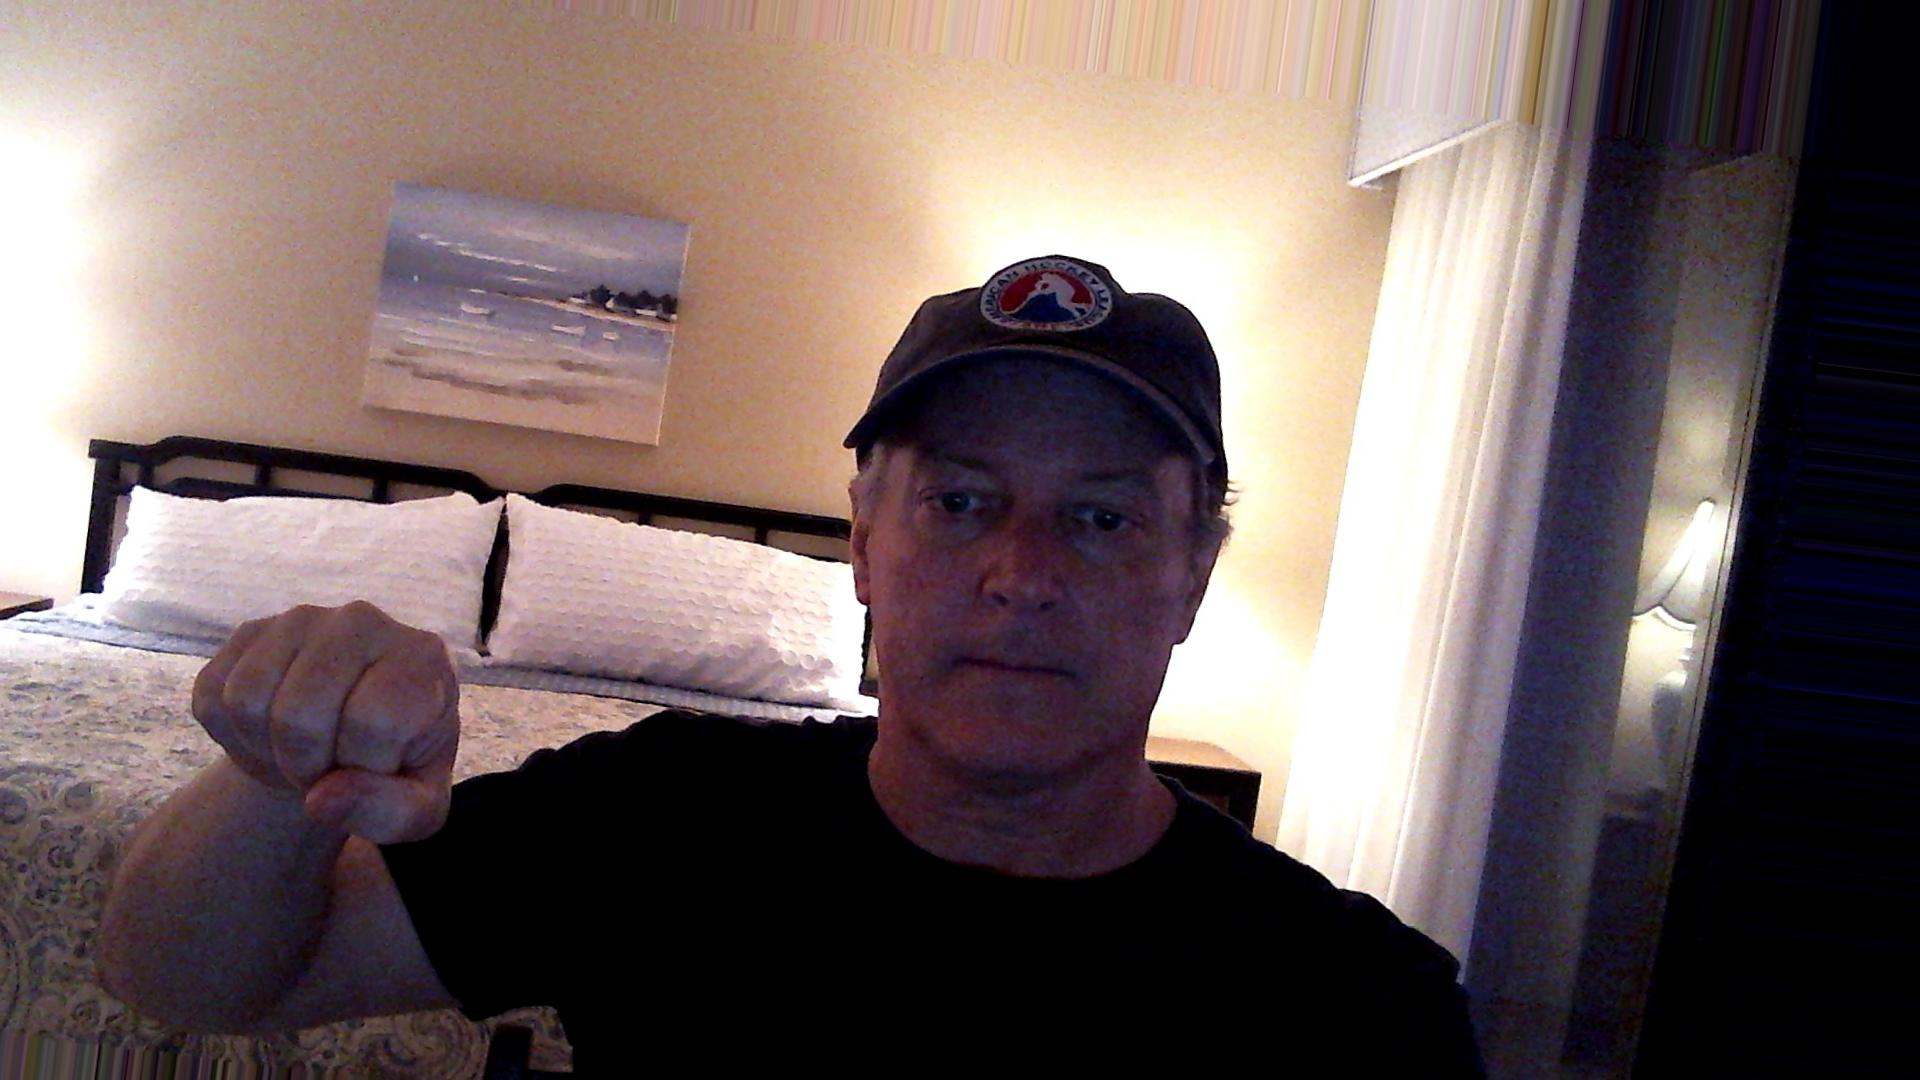Yes: (181, 589, 485, 856)
